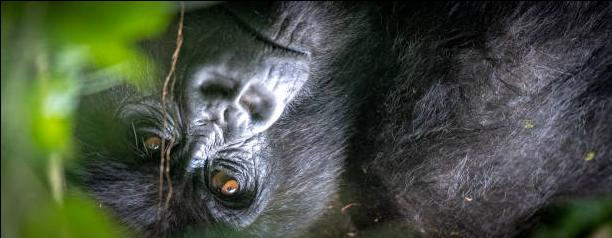goriile_montagne: (75, 0, 523, 238), (101, 0, 102, 1)
